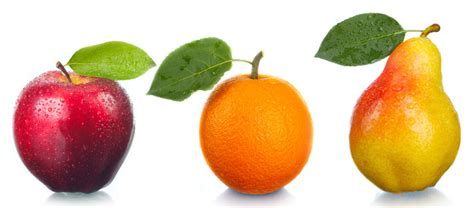apple: (12, 64, 142, 195)
orange: (197, 72, 317, 200)
